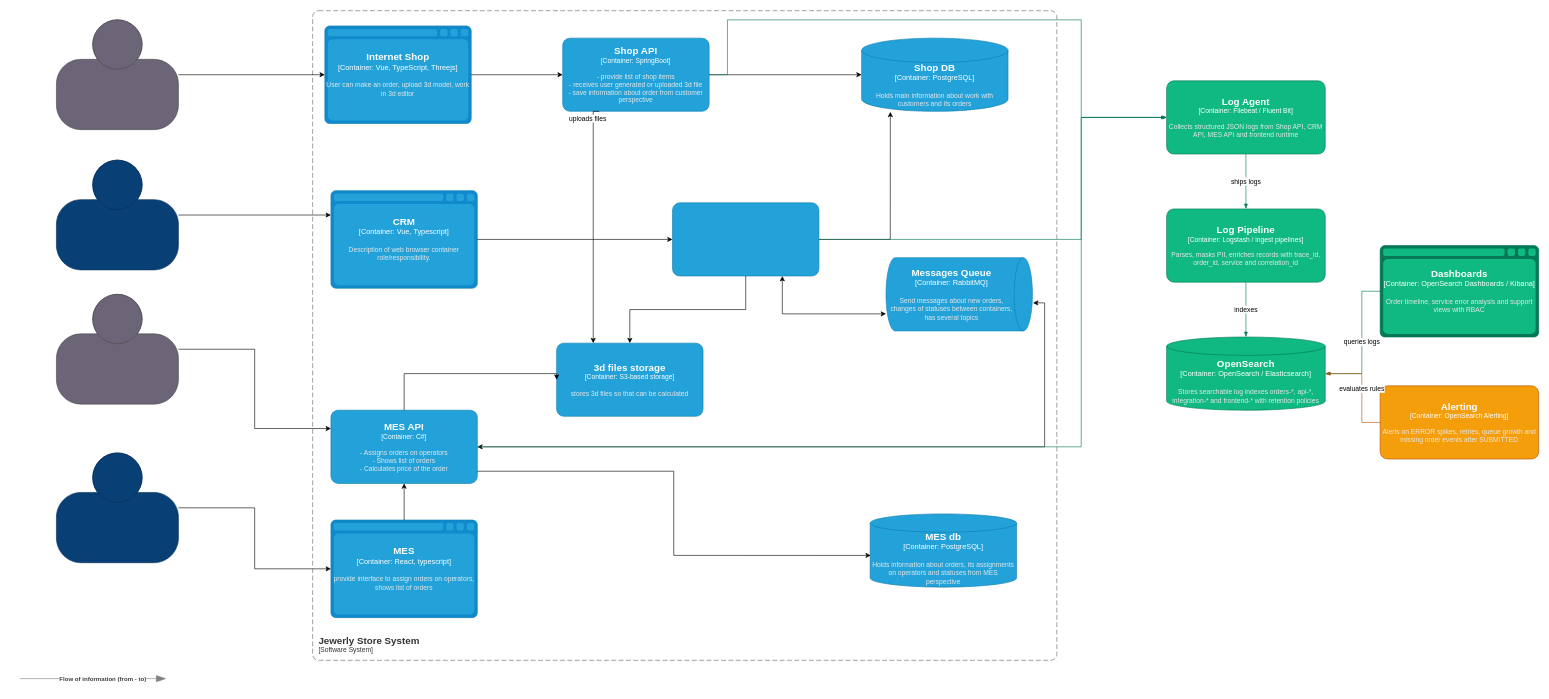
This 1549x699 diagram has some shape labels left out. The centre of each missing label's shape, as x and y in pixels:
"API user [Person] Description of external person." belongs at point 117,349.
"CRM API [Container: SpringBoot] Description of container role/responsibility." belongs at point 745,239.
"Customer [Person] Description of external person." belongs at point 117,74.
"Operator [Person] Takes order in work, manufactures jewerly" belongs at point 117,507.
"Seller [Person] Operates with order, confirms manufacturing for the user" belongs at point 117,215.
